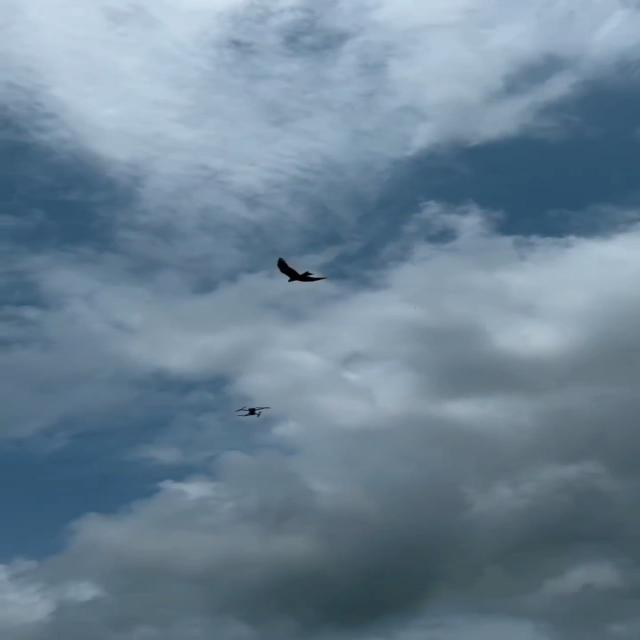bird: (276, 257, 328, 283)
drone: (233, 406, 270, 418)
